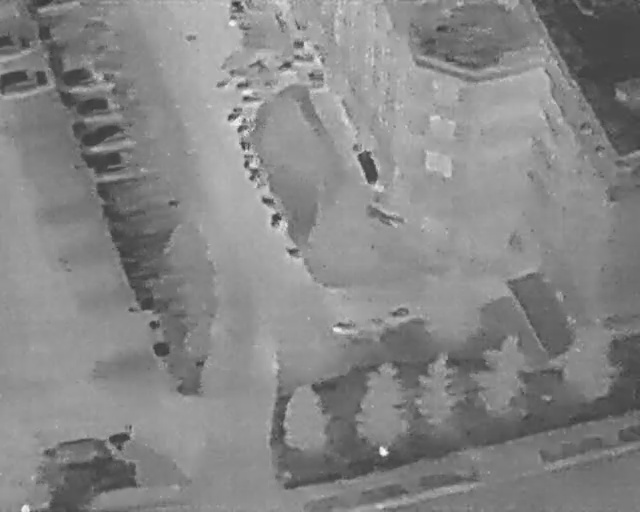Car: (32, 429, 140, 505), (87, 142, 142, 180), (59, 61, 106, 95), (74, 90, 122, 121), (80, 120, 130, 149), (0, 70, 51, 97), (1, 32, 34, 60)
